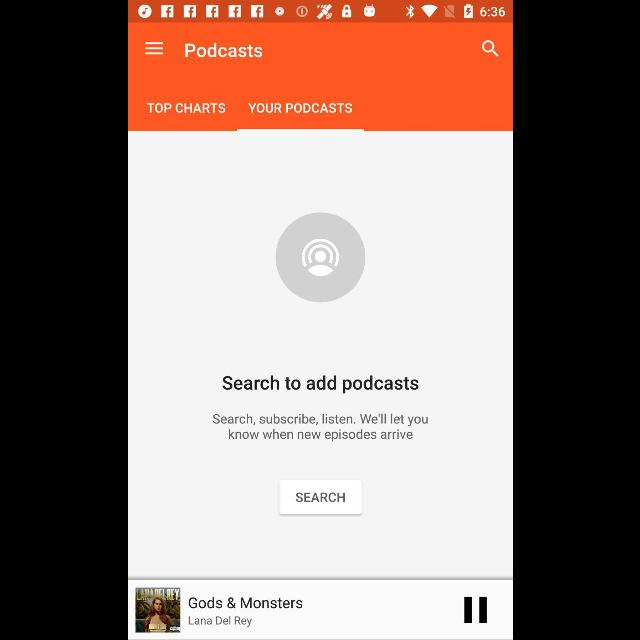icon: (480, 41, 498, 58), (144, 42, 162, 56)
image: (275, 213, 365, 303), (134, 588, 180, 632), (464, 596, 486, 624)
multitab: (128, 76, 512, 132)
text: (212, 413, 428, 442), (222, 376, 418, 394), (188, 597, 302, 609), (247, 102, 351, 114), (184, 42, 262, 58), (146, 103, 224, 113), (188, 615, 252, 627)
textbutton: (278, 480, 362, 514)
toolbar: (128, 24, 512, 74)
uppertaskbar: (128, 1, 512, 23)
